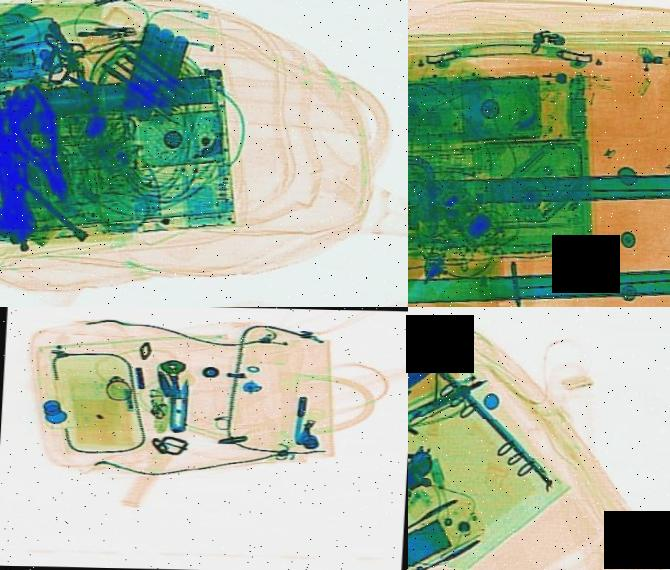Pliers: (0, 76, 93, 212)
Scissors: (167, 377, 193, 433)
